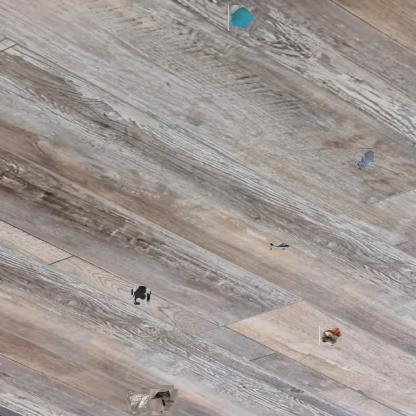dirty: (229, 5, 256, 32), (150, 388, 176, 414), (320, 325, 342, 346), (128, 393, 149, 414), (269, 244, 289, 249)
liquid: (356, 148, 376, 170), (132, 287, 149, 303)
